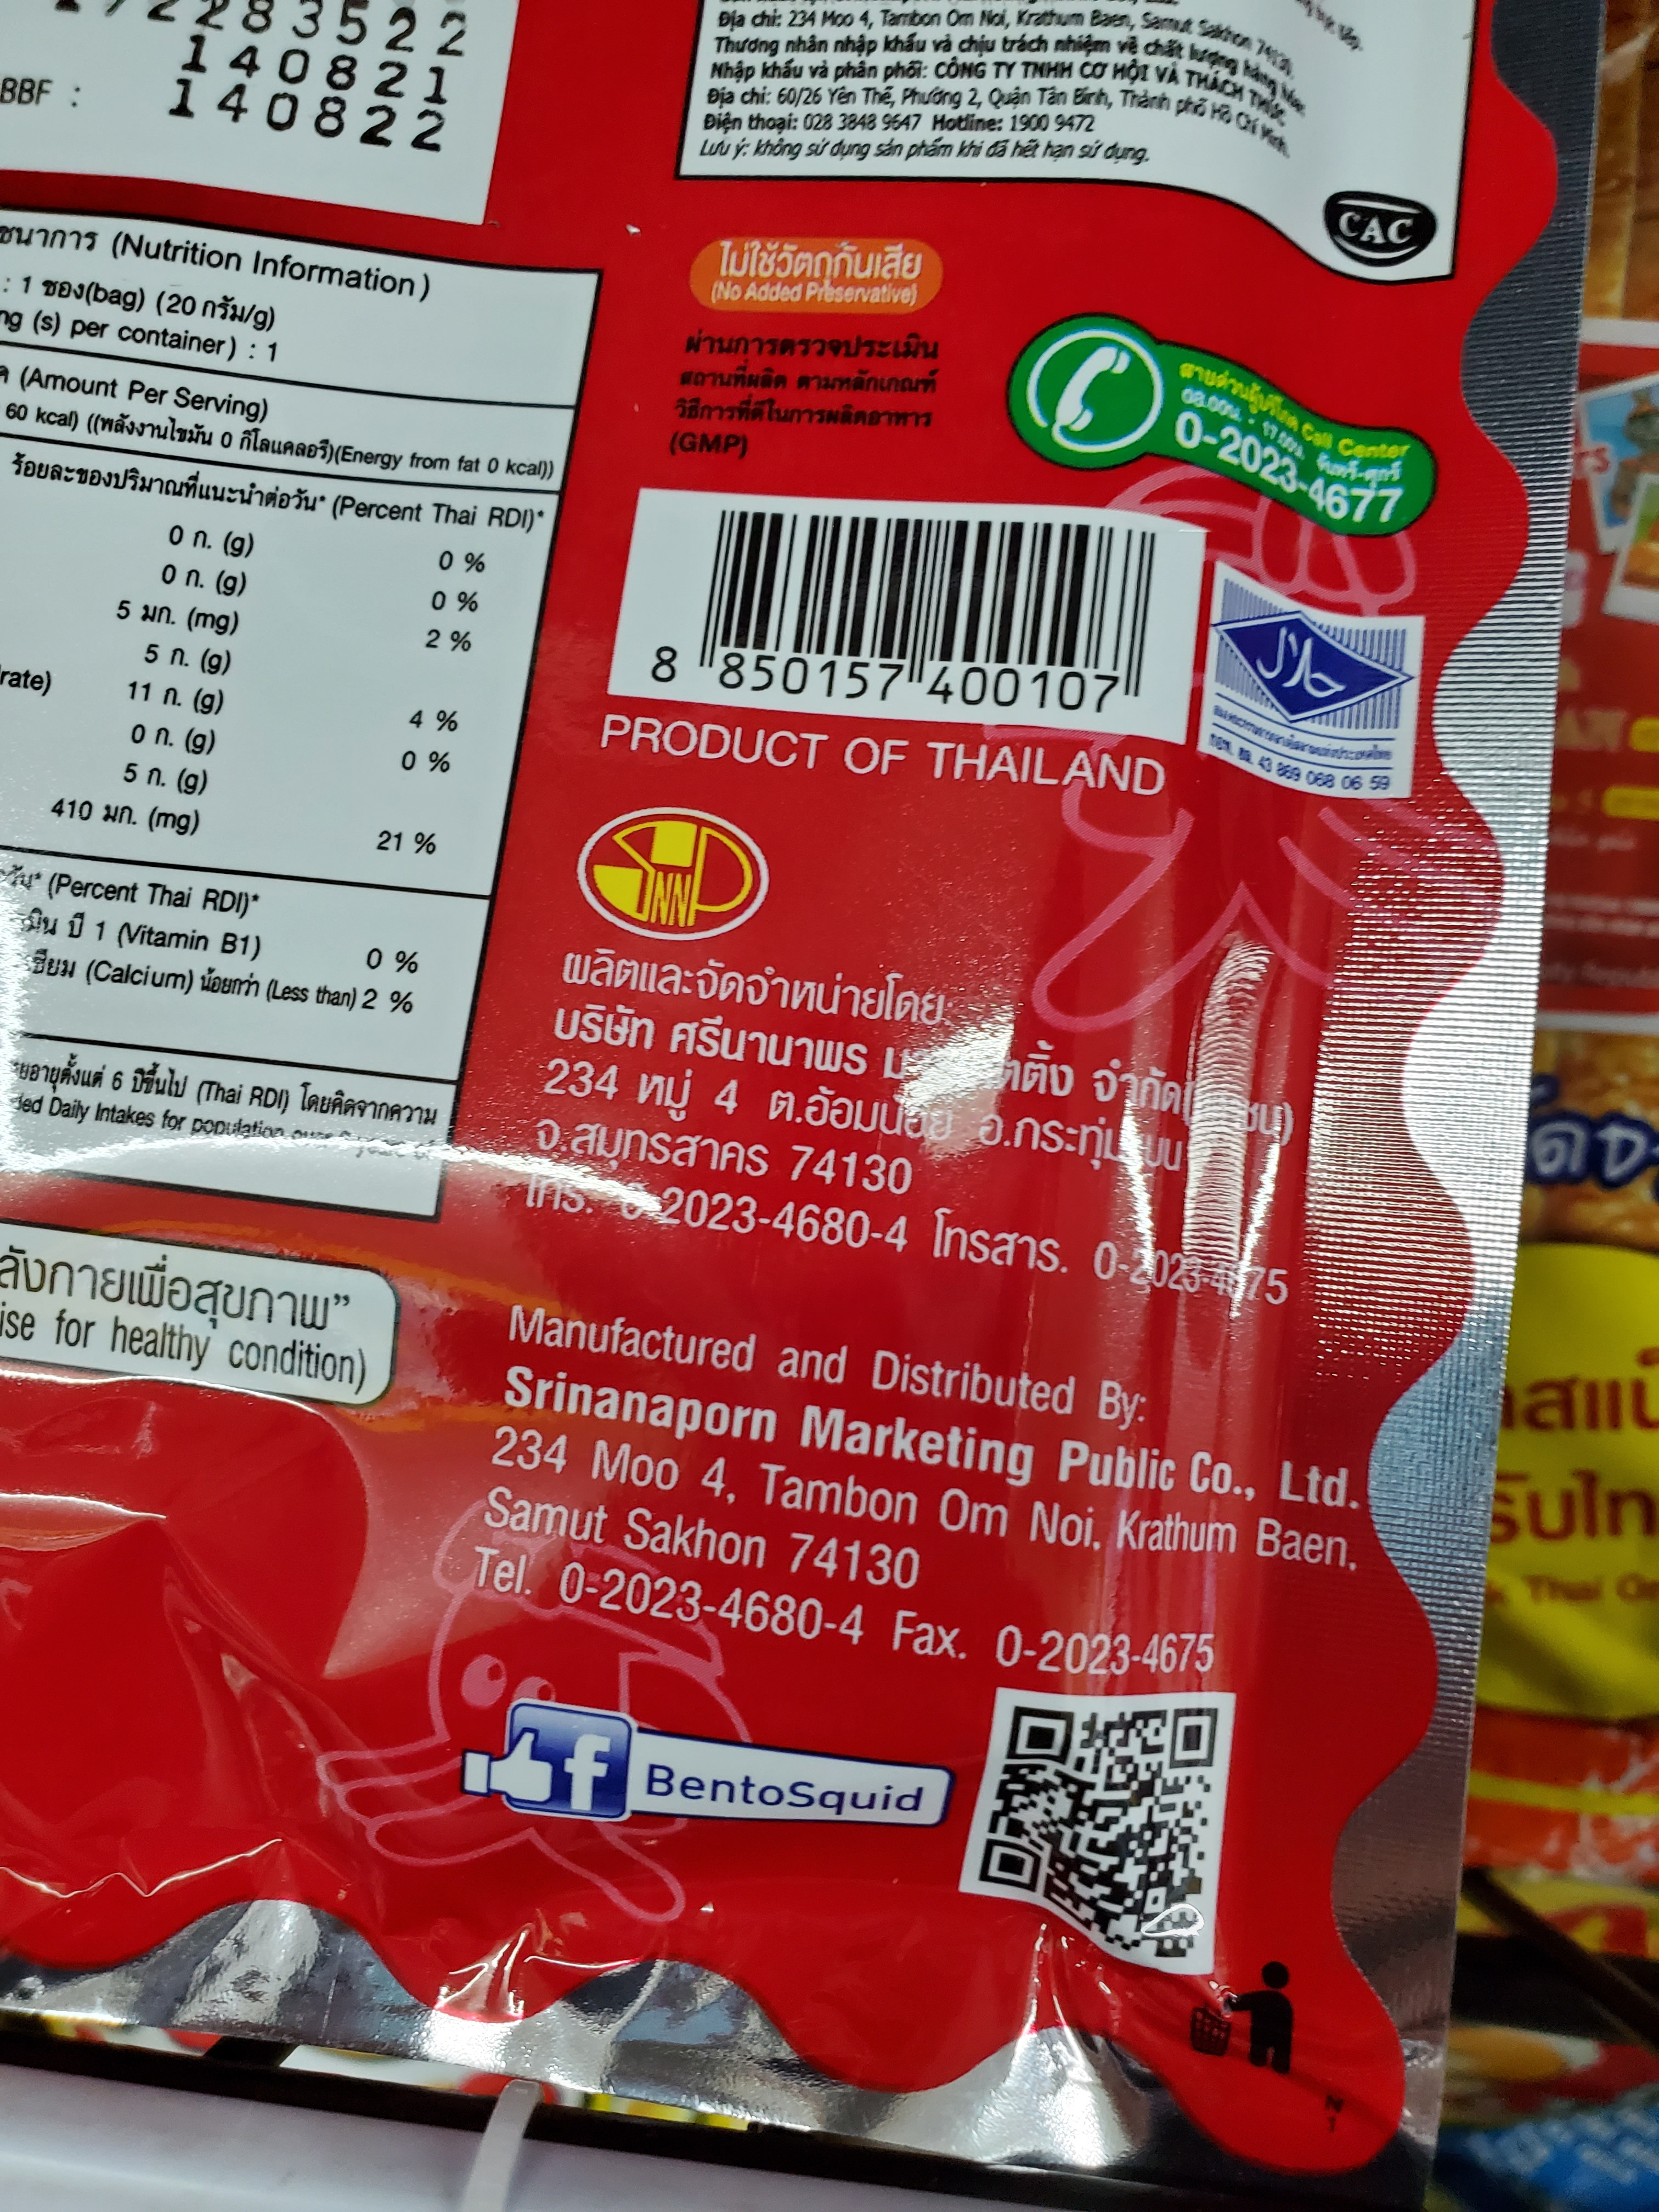barcode: (606, 491, 1190, 742)
